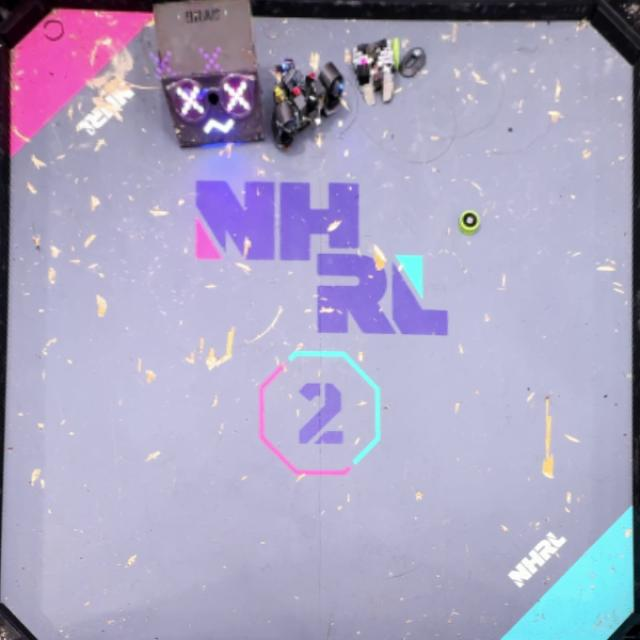housebot: (155, 1, 266, 149)
robot: (268, 57, 345, 151), (351, 37, 401, 106)
